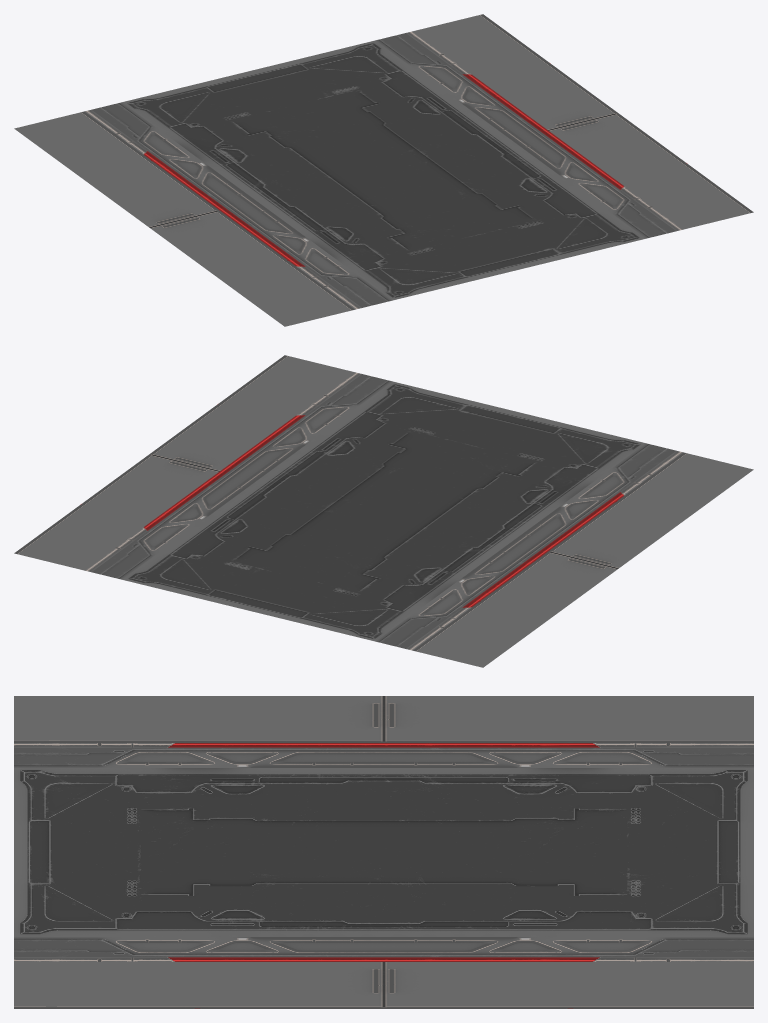
The model's file is Platform_CenterPlate.gltf.
The picture shows the model from 3 angles, top to bottom: view 1: azimuth 30°, elevation 25°; view 2: azimuth 150°, elevation 25°; view 3: azimuth 270°, elevation 25°; orthographic projection. The views are drawn at different scales.
Visible parts, largest first — view 1: Platform_CenterPlate; view 2: Platform_CenterPlate; view 3: Platform_CenterPlate.
Part boxes in pixels (bbox=[...]): Platform_CenterPlate: bbox=[14, 14, 753, 326]; Platform_CenterPlate: bbox=[14, 355, 753, 667]; Platform_CenterPlate: bbox=[14, 696, 753, 1008].
Bounding box in the file's own units: 4 × 2.84e-14 × 4.
Materials: 2 (2 with a texture image).
